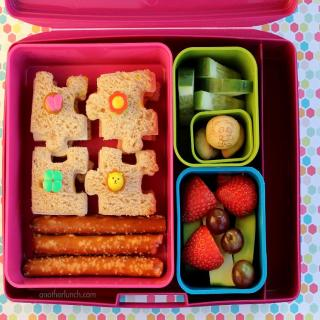Strawberry: (182, 231, 228, 274), (217, 173, 260, 218), (181, 174, 217, 226)
